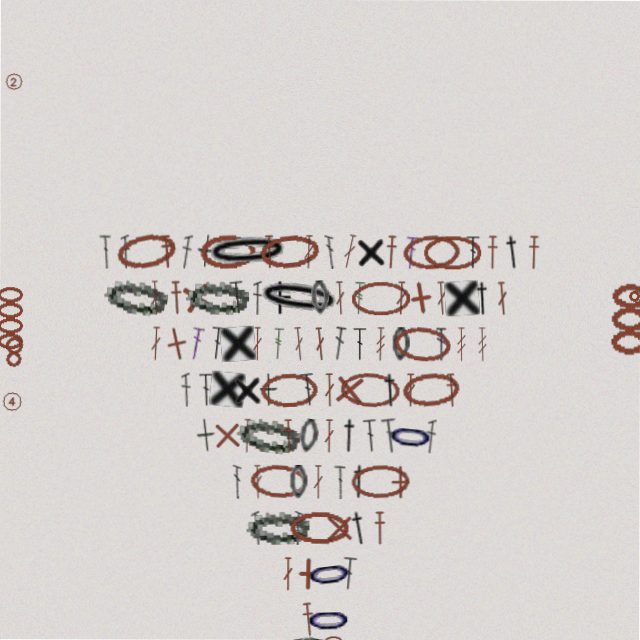chain: (255, 276, 343, 320), (204, 232, 291, 271), (114, 230, 178, 274), (236, 415, 302, 456), (103, 277, 169, 318), (258, 232, 320, 272), (401, 370, 462, 409), (392, 324, 452, 363), (340, 371, 401, 408), (247, 510, 310, 545), (186, 280, 249, 315), (402, 233, 461, 270), (250, 463, 308, 500), (351, 464, 411, 499), (260, 372, 318, 408), (351, 281, 411, 315), (199, 234, 257, 269), (290, 511, 349, 545), (423, 235, 481, 269), (305, 554, 355, 593), (386, 417, 436, 455), (306, 602, 353, 637), (298, 418, 320, 454), (310, 280, 330, 315), (290, 465, 308, 499), (392, 327, 410, 361), (291, 635, 307, 640), (300, 636, 320, 640), (325, 636, 343, 640), (313, 636, 328, 640)
double: (381, 418, 400, 453), (300, 372, 317, 407), (188, 326, 205, 361), (209, 326, 226, 361), (229, 280, 246, 315), (341, 234, 358, 269), (342, 556, 358, 591), (363, 418, 379, 453), (332, 326, 347, 361), (199, 373, 214, 407), (292, 327, 306, 361), (313, 327, 327, 361), (353, 327, 367, 361), (404, 235, 418, 269), (466, 235, 480, 269), (251, 511, 264, 545), (149, 281, 162, 315), (435, 281, 448, 315), (496, 281, 509, 315), (180, 235, 193, 269), (252, 465, 264, 499), (334, 465, 346, 499), (150, 327, 162, 361), (334, 281, 346, 315), (395, 281, 407, 315), (99, 235, 111, 269), (324, 235, 336, 269), (283, 557, 294, 591), (293, 511, 304, 545), (313, 465, 324, 499), (242, 419, 253, 453), (324, 419, 335, 453), (426, 419, 437, 453), (181, 373, 192, 407), (324, 373, 335, 407), (405, 373, 416, 407), (252, 327, 263, 361), (436, 327, 447, 361), (120, 235, 131, 269), (303, 235, 314, 269), (233, 465, 242, 499), (253, 281, 262, 315)
enseble_chain: (606, 281, 640, 358), (0, 287, 26, 353)
half_double: (348, 510, 371, 546), (349, 464, 370, 499), (339, 418, 360, 453), (502, 234, 523, 269), (381, 373, 400, 407), (473, 281, 492, 315), (301, 602, 317, 637), (444, 373, 459, 407), (169, 281, 184, 315), (159, 235, 174, 269), (282, 419, 296, 453), (262, 235, 276, 269), (384, 235, 398, 269), (374, 511, 387, 545), (486, 235, 499, 269), (527, 235, 540, 269)
noise: (3, 335, 26, 358), (1, 391, 23, 413), (3, 72, 23, 92), (4, 350, 24, 370), (627, 288, 640, 302)
single: (157, 324, 197, 364), (177, 278, 217, 318), (401, 278, 440, 317), (209, 371, 246, 408), (331, 371, 368, 408), (220, 326, 256, 362), (444, 280, 480, 316), (210, 418, 245, 453), (292, 557, 326, 591), (323, 511, 357, 545), (384, 465, 418, 499), (355, 234, 387, 269), (232, 373, 263, 407), (266, 281, 292, 315), (196, 418, 217, 453), (196, 234, 217, 269), (260, 373, 278, 407)
treble: (272, 327, 285, 361), (353, 281, 366, 315), (375, 327, 386, 361), (456, 327, 467, 361), (477, 327, 488, 361)
